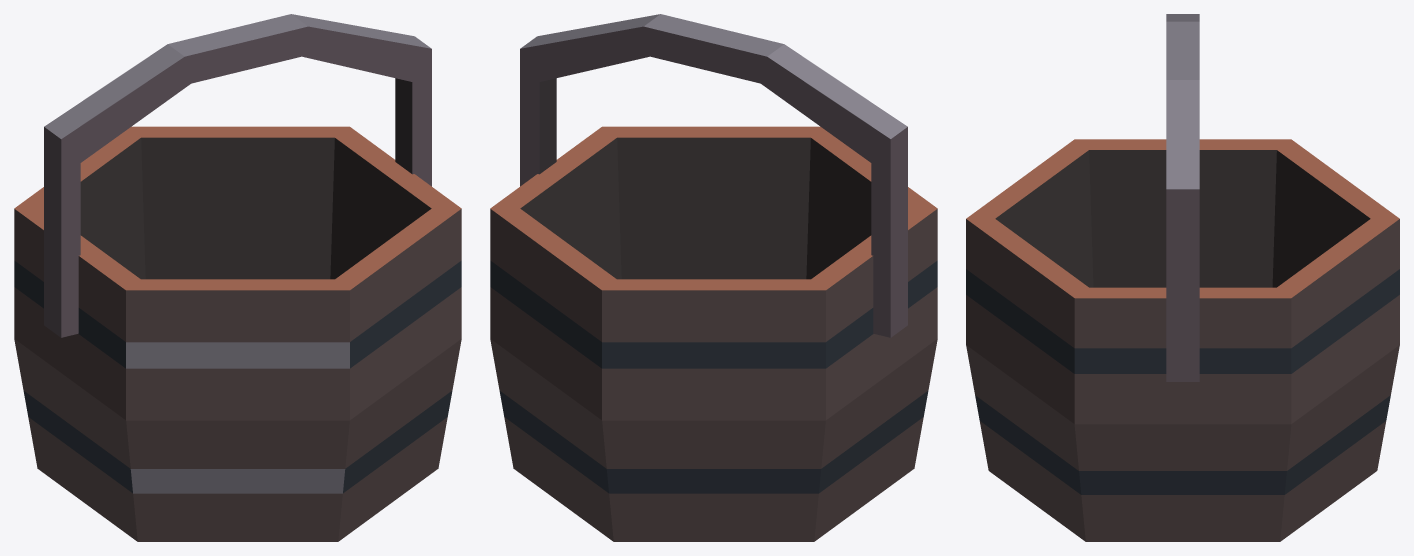
Rendered from TB_Prop_Coal_Basket.FBX.
3 views of the same model, side by side, from view 1: azimuth 30°, elevation 25°; view 2: azimuth 150°, elevation 25°; view 3: azimuth 270°, elevation 25° (orthographic). The views are drawn at different scales.
Visible parts, largest first — view 1: TB_Prop_Coal_Basket; view 2: TB_Prop_Coal_Basket; view 3: TB_Prop_Coal_Basket.
Boxes of the visible parts, <box> form: TB_Prop_Coal_Basket: <box>14,14,461,541</box>; TB_Prop_Coal_Basket: <box>490,14,937,541</box>; TB_Prop_Coal_Basket: <box>966,14,1399,541</box>.
Size of the model in its own units: 1.02 by 1.14 by 1.06.
